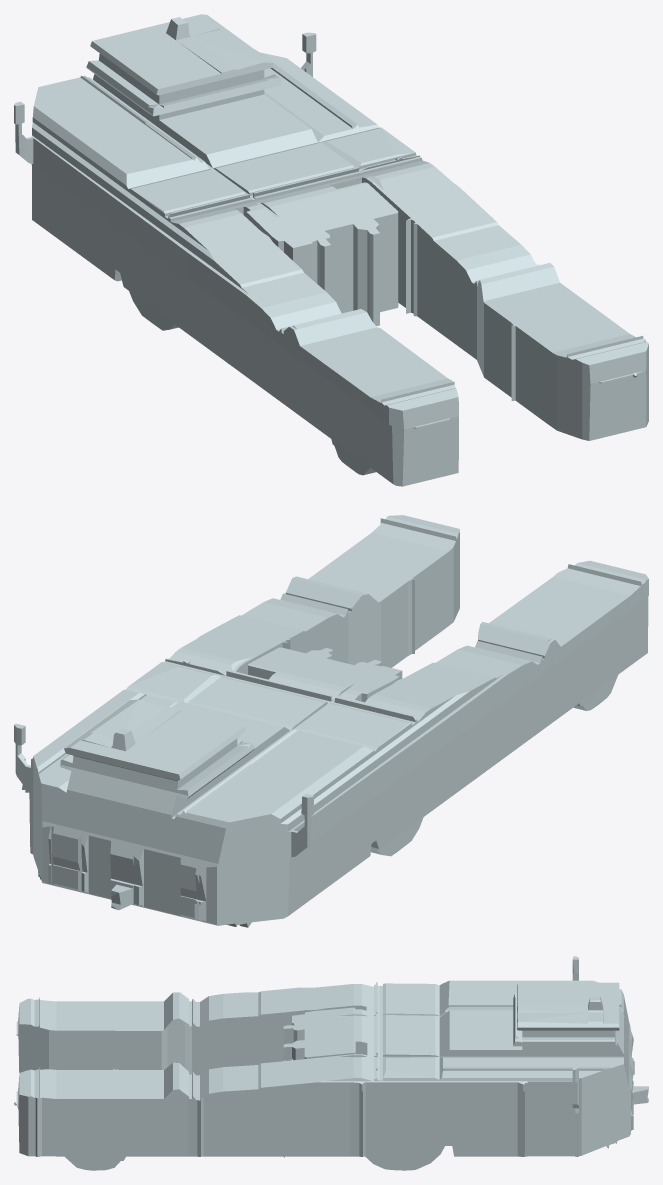
The model's file is PTUG.glb.
The picture shows the model from 3 angles, top to bottom: view 1: azimuth 30°, elevation 25°; view 2: azimuth 150°, elevation 25°; view 3: azimuth 270°, elevation 25°; orthographic projection. The views are drawn at different scales.
Parts seen in each view (by area): view 1: Aircraft visual hull; view 2: Aircraft visual hull; view 3: Aircraft visual hull.
Boxes of the visible parts, <box> form: Aircraft visual hull: <box>14,14,648,486</box>; Aircraft visual hull: <box>14,515,648,927</box>; Aircraft visual hull: <box>14,956,648,1170</box>.
Size of the model in its own units: 3.57 by 2 by 8.5.
